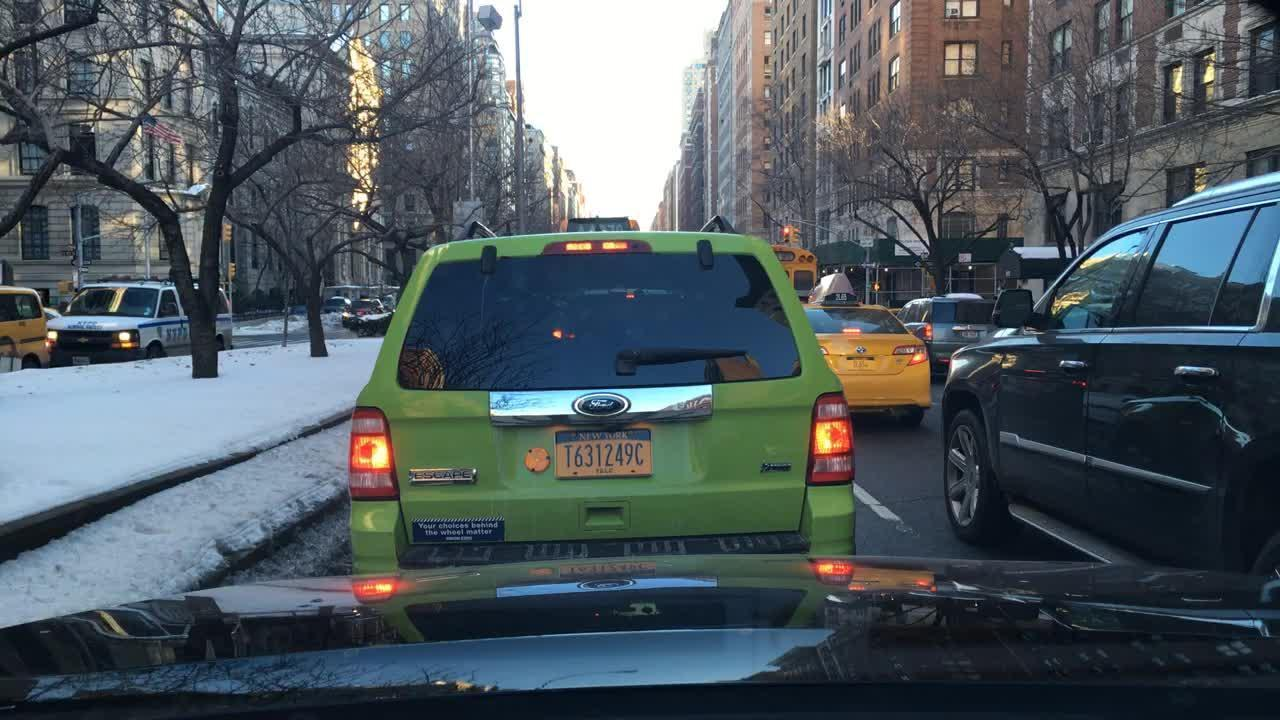Toyota: (850, 340, 877, 359)
ford: (565, 380, 642, 430)
